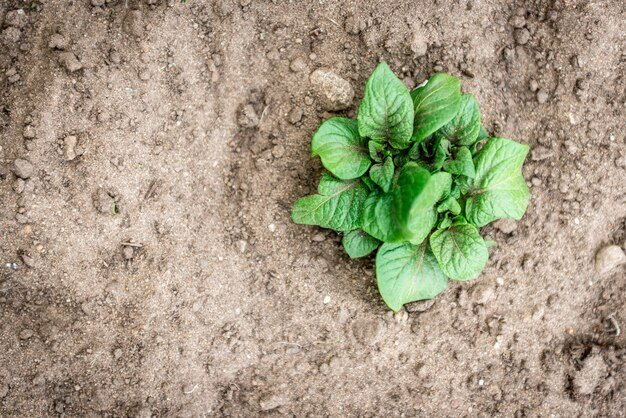potato_plant: (288, 58, 535, 310)
